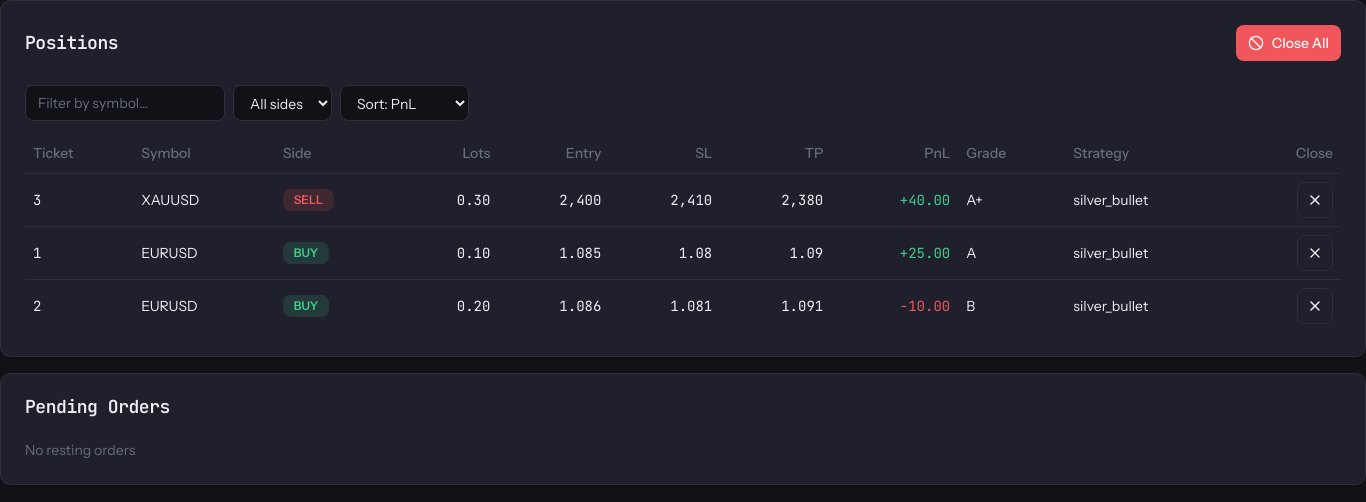
Test case: PositionsPage › side filter BUY shows 2 rows
The width and height of the screenshot is (1366, 502).
Select "Buy" in the dropdown named "side". click: {"x": 282, "y": 103}
box: [233, 85, 332, 121]
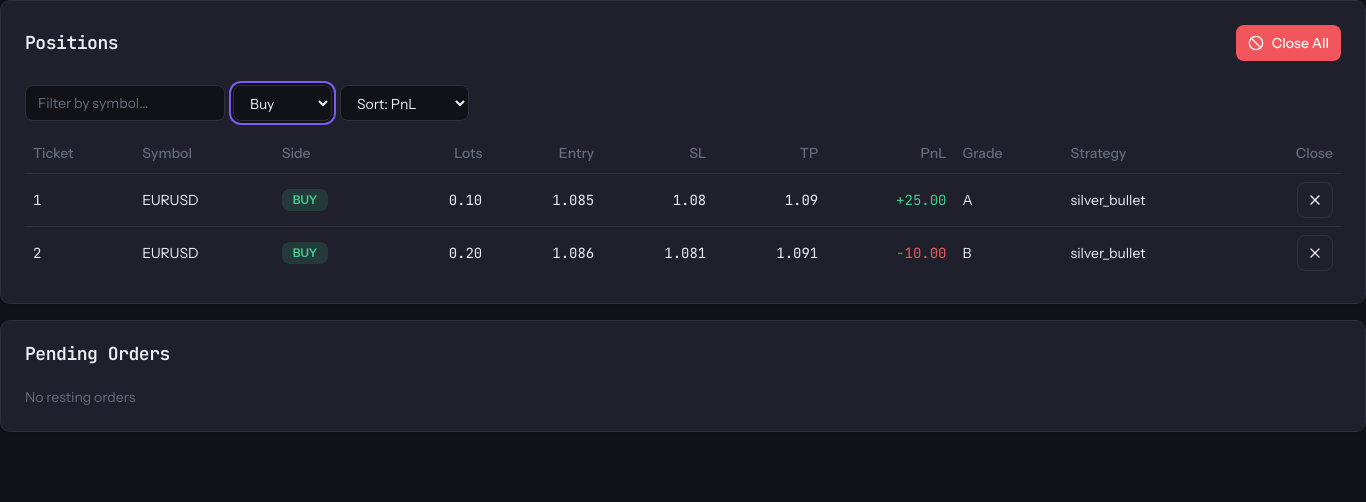
expect the number of rows is 3: met, box [25, 133, 1341, 173]; [25, 173, 1341, 226]; [25, 226, 1341, 278]
